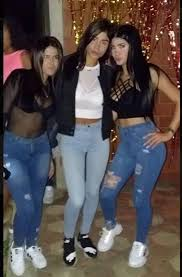person: (105, 31, 164, 106), (17, 38, 68, 107), (76, 28, 113, 86)
